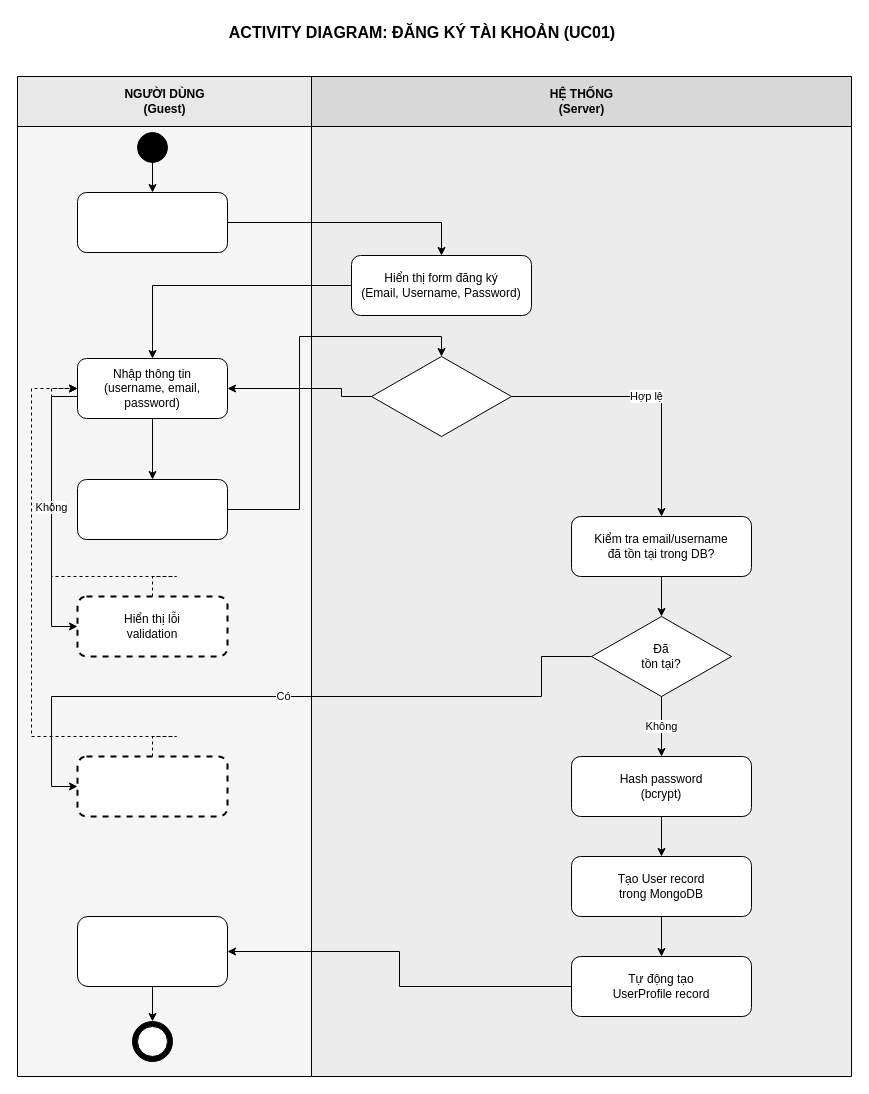
Some shapes in this 869 by 1094 pixel diagram are drawn without their labels. The shapes that lost their labels are listed below. From the top down, each one's centre as x and y in pixels, then its label:
[152,222]: Truy cập trang đăng ký
[441,396]: Validate input?
[152,509]: Nhấn nút "Đăng ký"
[152,786]: Hiển thị lỗi "Email/Username đã tồn tại"
[152,951]: Hiển thị thông báo "Đăng ký thành công! Vui lòng đăng nhập."
